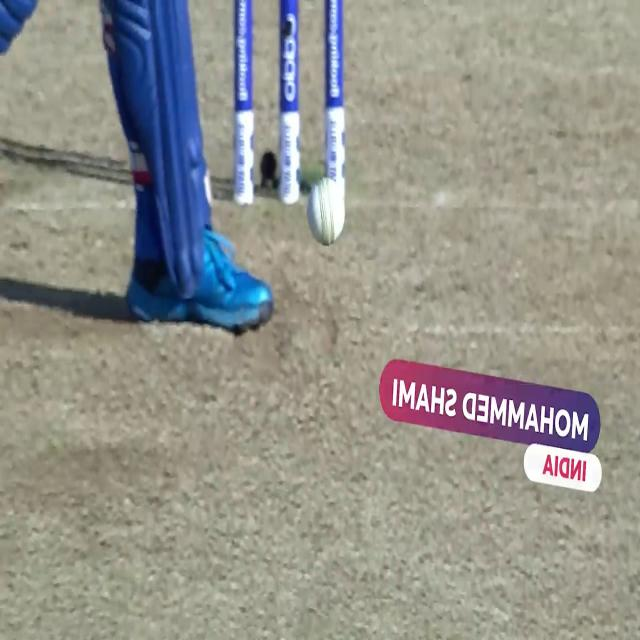ball: (304, 174, 346, 247)
